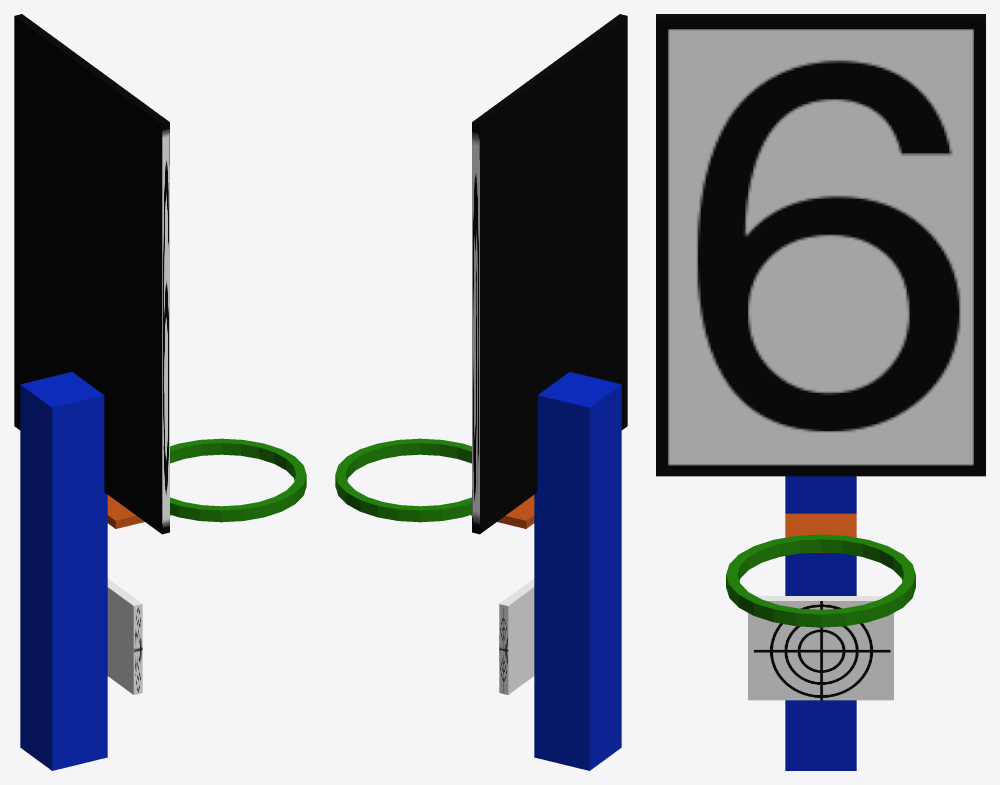
The model's file is sick_robot_day_2014_target_station_complete_6.dae.
3 renders of one model, left to right at view 1: azimuth 30°, elevation 25°; view 2: azimuth 150°, elevation 25°; view 3: azimuth 270°, elevation 25°, orthographic. The views are drawn at different scales.
Parts seen in each view (by area): view 1: Cube, Cube_003, Cylinder, Cube_001, Cube_004; view 2: Cube, Cube_003, Cylinder, Cube_001, Cube_004; view 3: Cube, Cube_001, Cube_003, Cylinder, Cube_004.
Boxes of the visible parts, left/top/right/bottom form: Cube: left=14, top=14, right=169, bottom=534; Cube_003: left=20, top=372, right=107, bottom=770; Cylinder: left=170, top=438, right=306, bottom=522; Cube_001: left=107, top=578, right=142, bottom=694; Cube_004: left=107, top=495, right=170, bottom=528; Cube: left=472, top=14, right=627, bottom=534; Cube_003: left=534, top=372, right=621, bottom=770; Cylinder: left=335, top=438, right=471, bottom=522; Cube_001: left=499, top=578, right=534, bottom=694; Cube_004: left=471, top=495, right=534, bottom=528; Cube: left=656, top=14, right=985, bottom=476; Cube_001: left=748, top=596, right=893, bottom=700; Cube_003: left=785, top=476, right=856, bottom=770; Cylinder: left=726, top=534, right=915, bottom=627; Cube_004: left=785, top=513, right=856, bottom=552.
Size of the model in its own units: 0.5801 by 0.5736 by 1.45.
5 materials, 2 textured.
